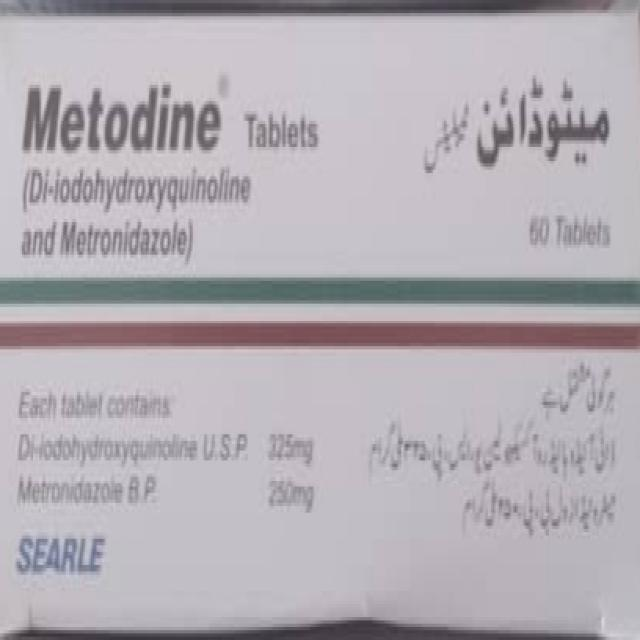drug-name: (21, 73, 230, 155)
